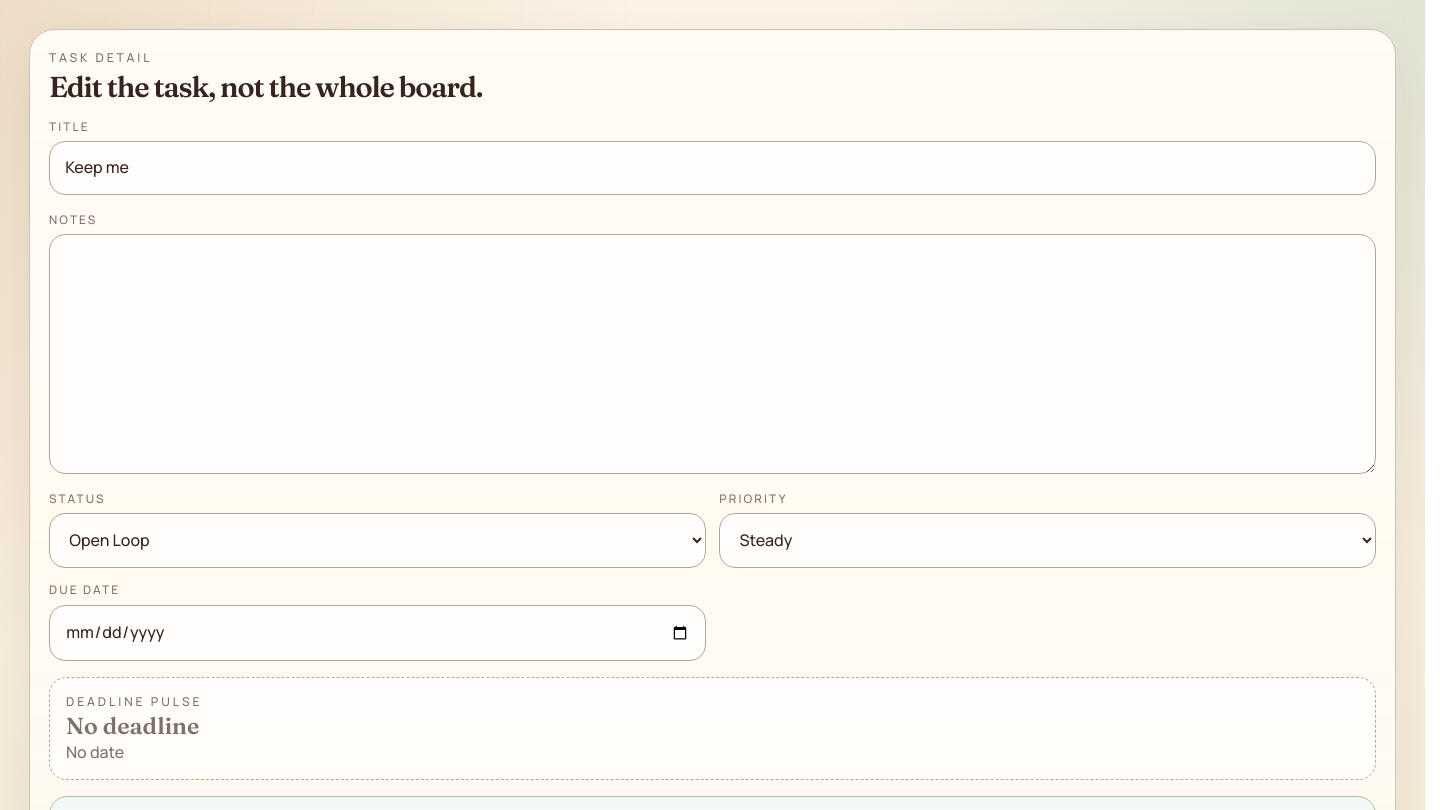
Test: TaskDetail editable title › reverts to original title on second failed blur
Clear the field labelled "Title": {"x": 712, "y": 168} [49,141,1376,195]
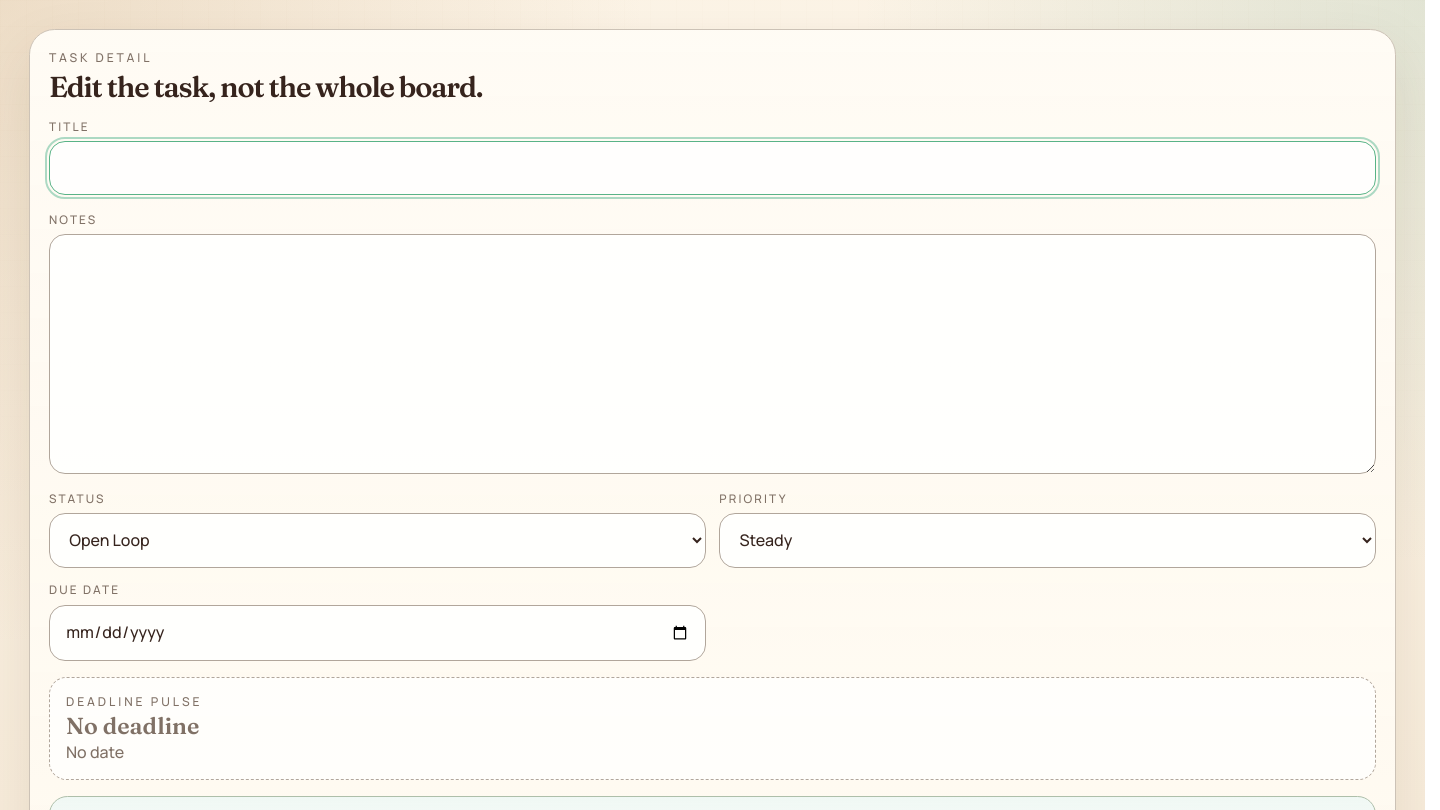
Press Tab
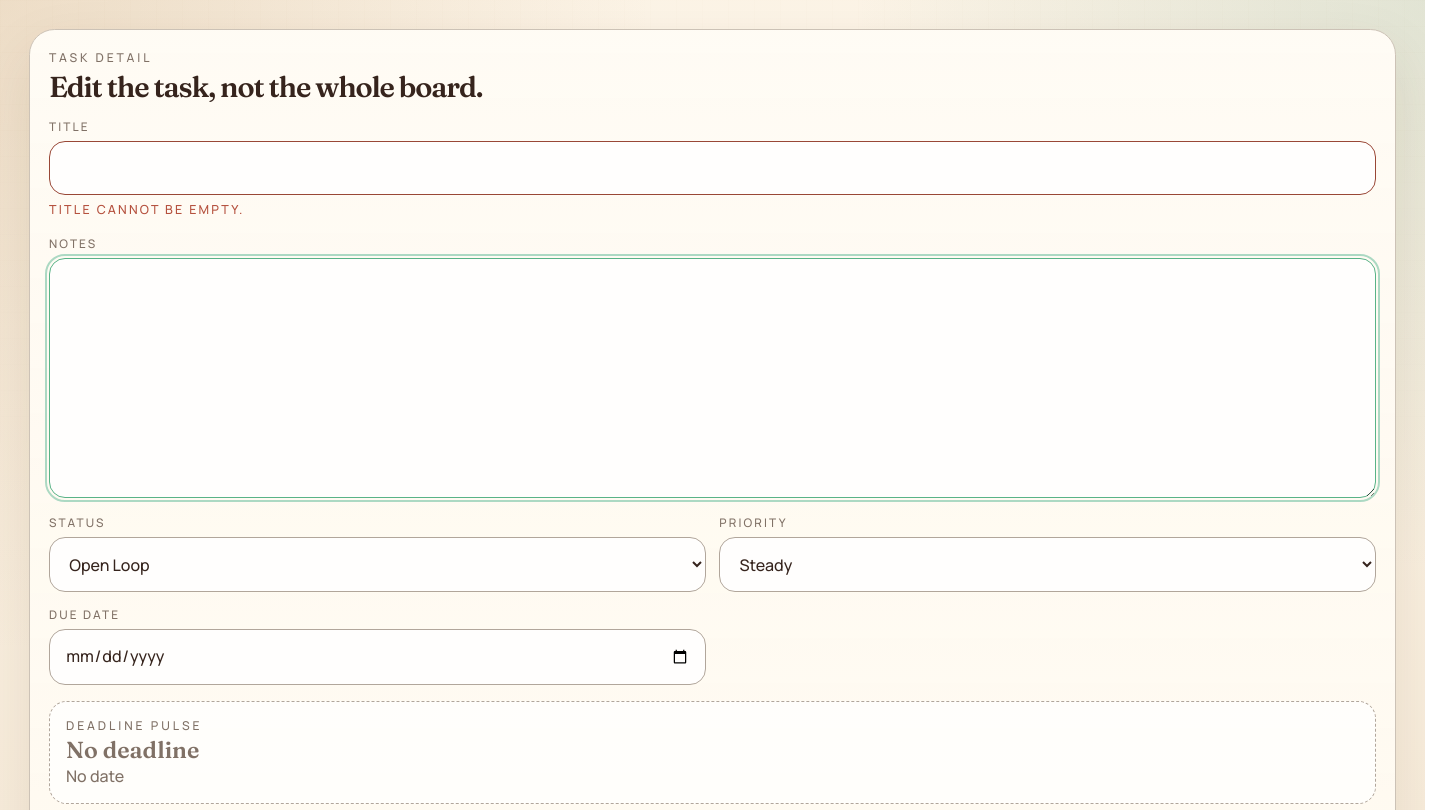
Now the message "Title cannot be empty." is shown, box [49,201,245,218]
Click the field labelled "Title": {"x": 712, "y": 168} [49,141,1376,195]
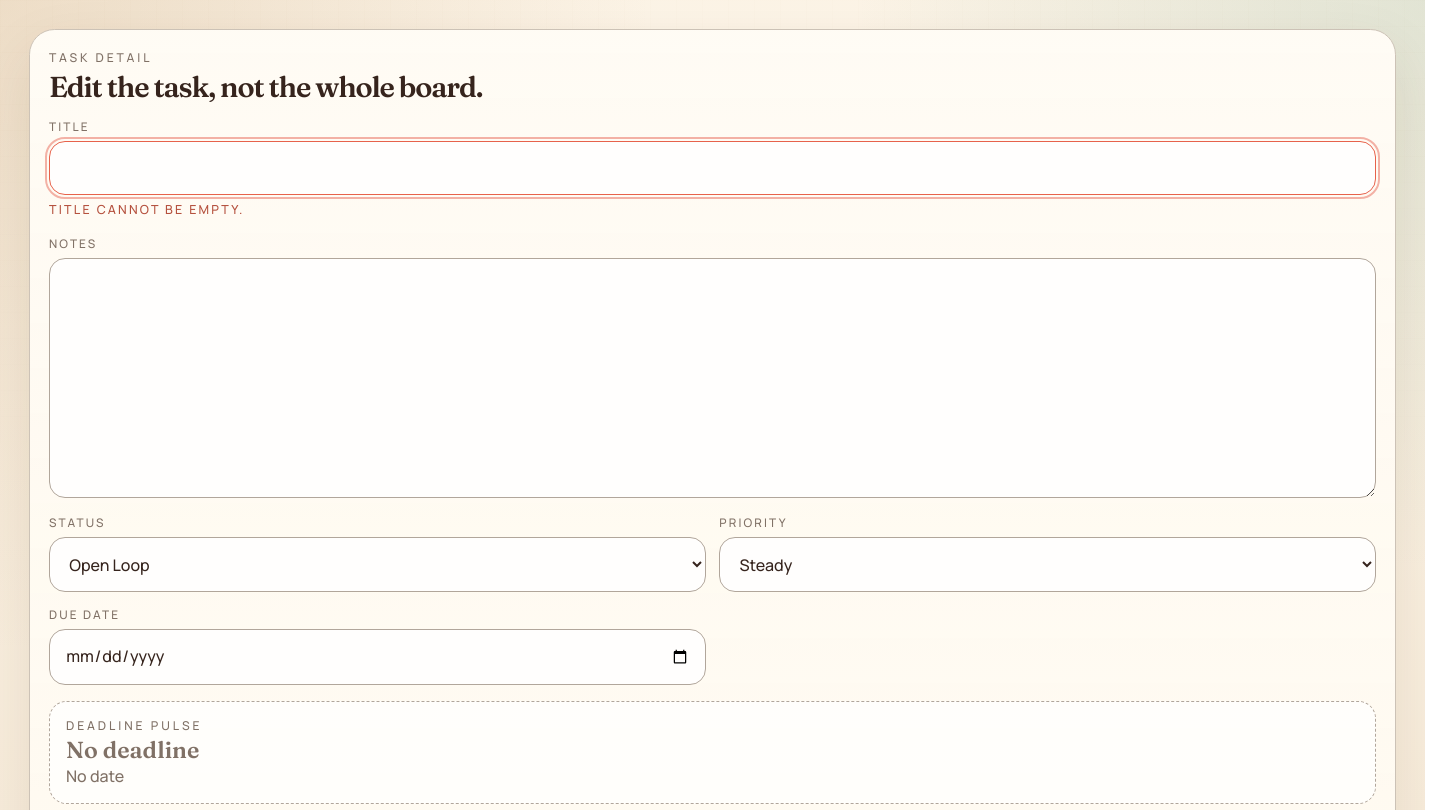
Press Tab
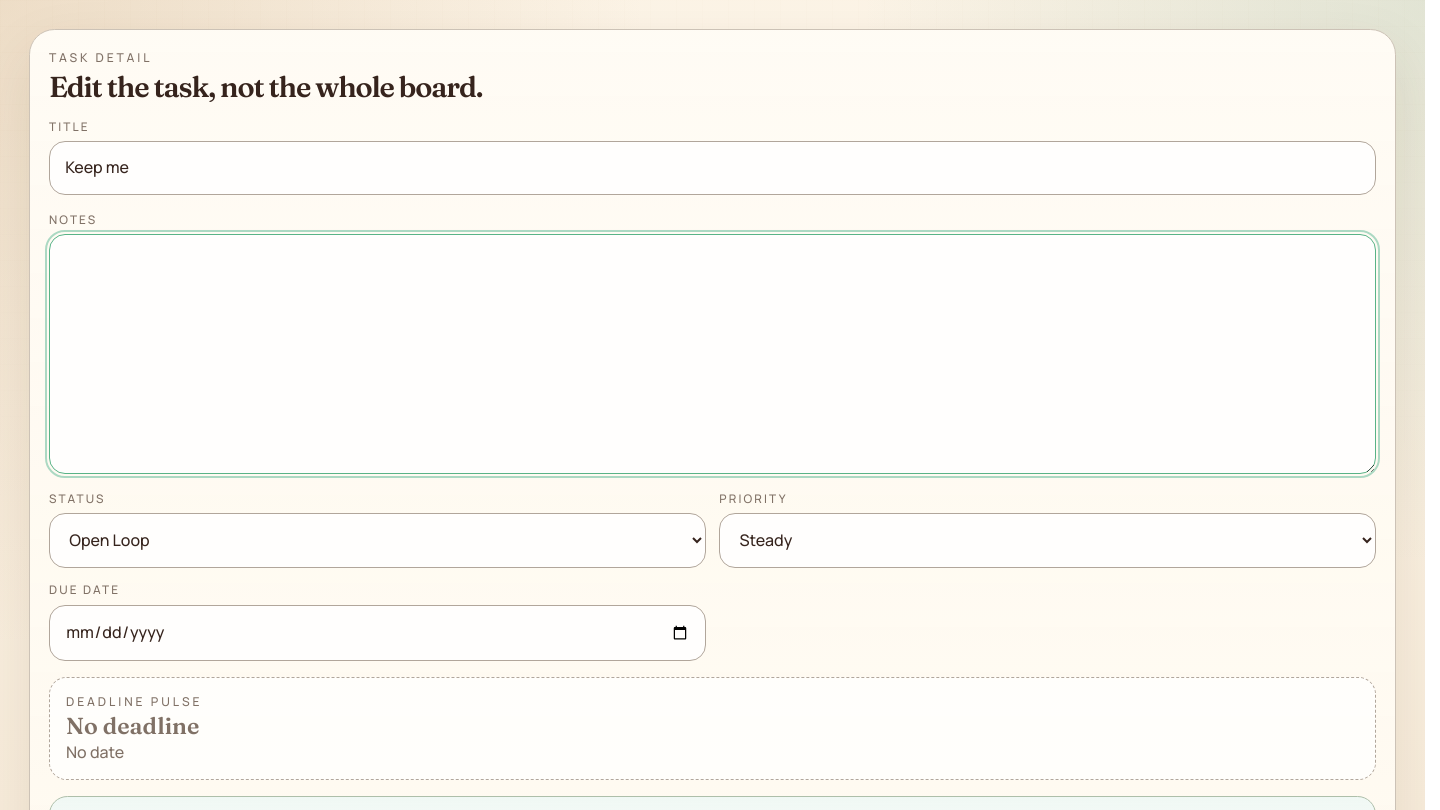
Now the field labelled "Title" holds "Keep me", box [49,141,1376,195]
Now the message "Title cannot be empty." is gone
